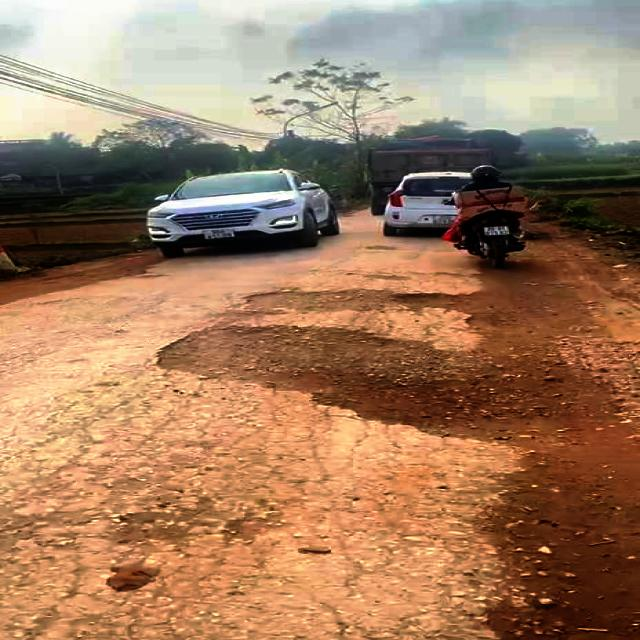pothole: (148, 320, 624, 447), (454, 502, 640, 640), (242, 284, 486, 327)
